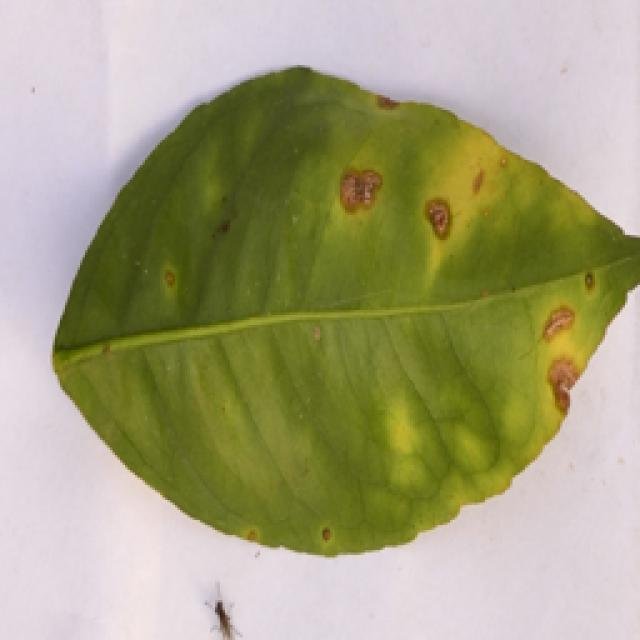canker: (71, 83, 605, 551)
